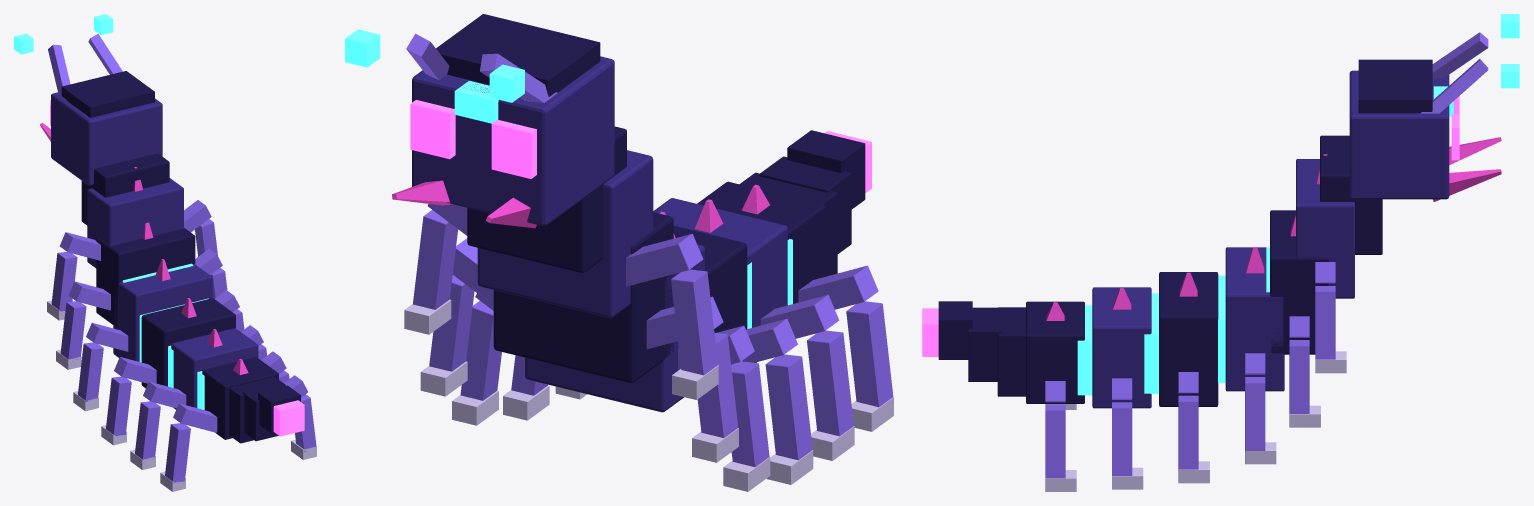
File: centipede.glb
3 renders of one model, left to right at view 1: azimuth 30°, elevation 25°; view 2: azimuth 150°, elevation 25°; view 3: azimuth 270°, elevation 25°, orthographic. The views are drawn at different scales.
Visible parts, largest first — view 1: body, head, tail, leg.FR, leg.BR, ear.R, ear.L, leg.FL, leg.BL; view 2: body, head, tail, leg.BR, leg.FR, leg.FL, ear.L, ear.R; view 3: body, head, tail, leg.FL, leg.BL, ear.R, ear.L.
Boxes of the visible parts, box(x1,y1,x2,y2) form: body: box(47, 153, 316, 491); head: box(40, 71, 162, 185); tail: box(229, 377, 304, 443); leg.FR: box(73, 323, 128, 411); leg.BR: box(130, 381, 186, 469); ear.R: box(14, 33, 70, 100); ear.L: box(88, 14, 122, 74); leg.FL: box(215, 290, 244, 331); leg.BL: box(261, 351, 289, 383); body: box(404, 126, 893, 484); head: box(392, 14, 614, 228); tail: box(740, 130, 871, 276); leg.BR: box(760, 294, 854, 460); leg.FR: box(678, 325, 770, 491); leg.FL: box(452, 293, 501, 425); ear.L: box(345, 29, 449, 79); ear.R: box(480, 53, 557, 102); body: box(1026, 135, 1382, 491); head: box(1349, 59, 1501, 201); tail: box(922, 301, 1025, 396); leg.FL: box(1245, 353, 1276, 464); leg.BL: box(1112, 378, 1143, 489); ear.R: box(1432, 14, 1519, 78); ear.L: box(1420, 59, 1519, 113).
Bounding box in the file's own units: 0.5082 × 0.9343 × 1.25.
